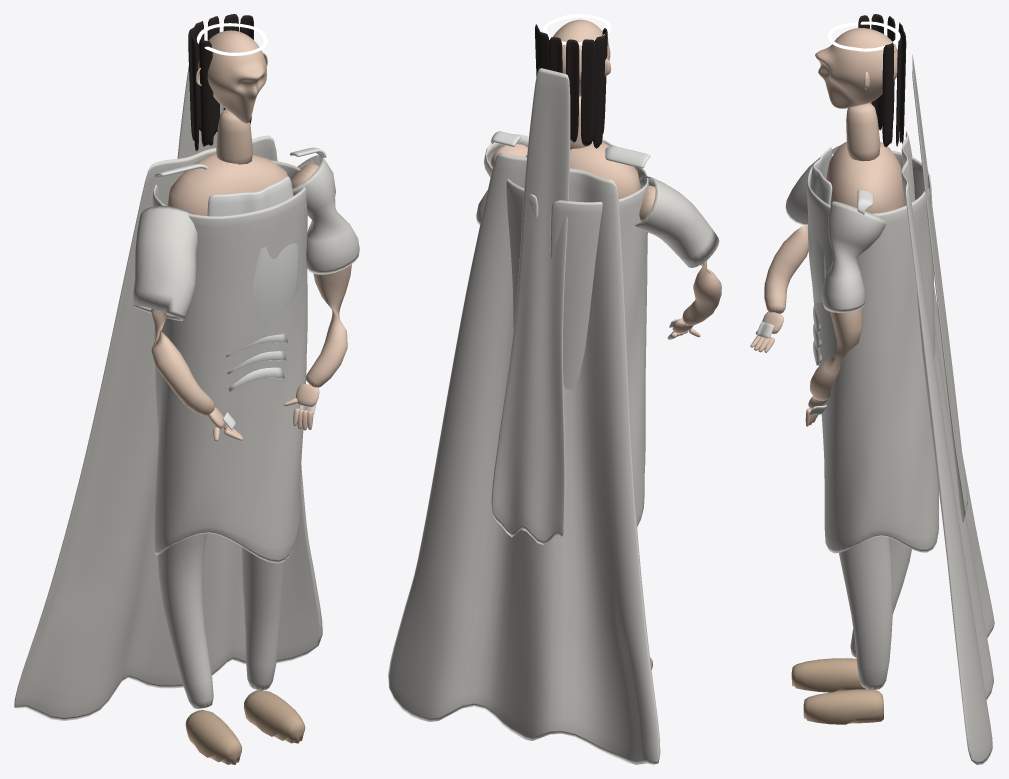
The model's file is observatory_ruler.glb.
3 renders of one model, left to right at view 1: azimuth 30°, elevation 25°; view 2: azimuth 150°, elevation 25°; view 3: azimuth 270°, elevation 25°, orthographic. The views are drawn at different scales.
Parts seen in each view (by area): view 1: Cape, Robe, LegR, SleeveR, Plate, LegL, SleeveL, Body, Head, ArmL, ArmR, BootL (+6 smaller); view 2: Cape, Veil, Robe, SleeveR, Body, ArmR, Hair4, Head, Hair3, Hair5, Paul-1, SleeveL; view 3: Robe, Cape, LegL, SleeveL, Head, Body, Veil, BootL, ArmR, BootR, ArmL, Neck (+7 smaller).
Boxes of the visible parts, <box> form: Cape: <box>14,135,322,720</box>; Robe: <box>152,160,307,563</box>; LegR: <box>157,533,213,708</box>; SleeveR: <box>132,206,197,321</box>; Plate: <box>207,176,298,328</box>; LegL: <box>242,547,286,690</box>; SleeveL: <box>292,155,359,274</box>; Body: <box>167,153,287,215</box>; Head: <box>198,30,266,123</box>; ArmL: <box>290,163,351,387</box>; ArmR: <box>151,309,214,415</box>; BootL: <box>243,690,305,743</box>; Cape: <box>388,152,660,764</box>; Veil: <box>491,68,570,544</box>; Robe: <box>506,167,648,526</box>; SleeveR: <box>635,176,719,267</box>; Body: <box>526,141,640,198</box>; ArmR: <box>639,185,721,325</box>; Hair4: <box>581,39,596,145</box>; Head: <box>553,19,610,96</box>; Hair3: <box>566,39,579,142</box>; Hair5: <box>592,35,605,148</box>; Paul-1: <box>605,146,650,168</box>; SleeveL: <box>476,134,528,225</box>; Robe: <box>807,150,938,553</box>; Cape: <box>901,131,994,764</box>; LegL: <box>839,536,892,689</box>; SleeveL: <box>822,201,886,312</box>; Head: <box>815,28,897,108</box>; Body: <box>826,142,904,213</box>; Veil: <box>912,54,967,523</box>; BootL: <box>803,689,883,724</box>; ArmR: <box>764,225,808,313</box>; BootR: <box>791,658,866,692</box>; ArmL: <box>810,308,863,400</box>; Neck: <box>846,103,880,161</box>.
Bounding box in the file's own units: 0.8595 × 1.95 × 0.6359.
